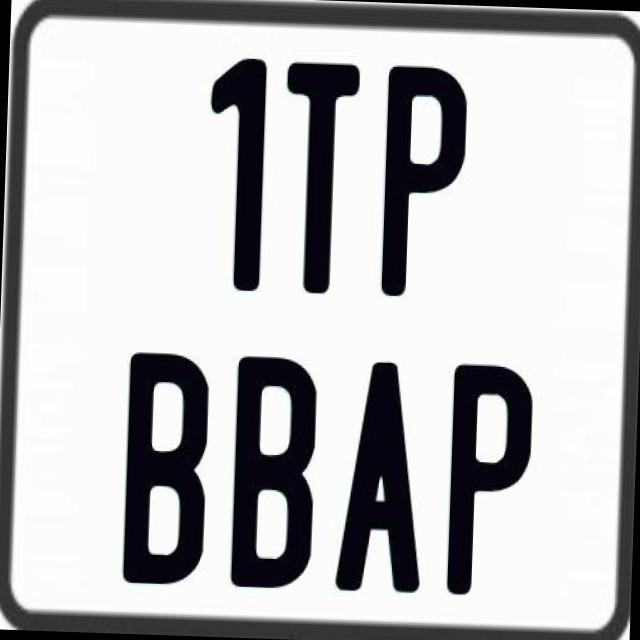1: (201, 54, 268, 288)
A: (331, 358, 426, 596)
B: (119, 350, 208, 593), (230, 356, 322, 590)
P: (378, 59, 469, 294), (446, 362, 534, 596)
T: (278, 56, 366, 290)
